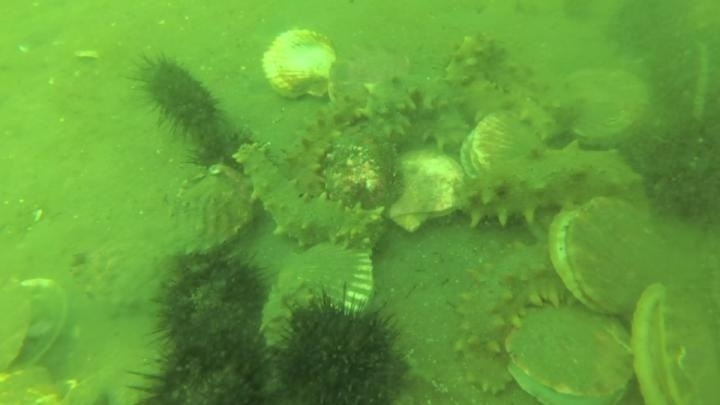echinus: (269, 290, 415, 405), (149, 244, 275, 365), (127, 336, 282, 404), (639, 111, 720, 236), (131, 52, 225, 141), (607, 1, 709, 56), (187, 121, 257, 177)
holothurian: (230, 138, 388, 253), (447, 140, 643, 232), (450, 247, 570, 395), (358, 67, 474, 151), (281, 92, 368, 197), (626, 282, 693, 405), (440, 46, 516, 128), (329, 46, 417, 110), (357, 69, 425, 144), (441, 30, 510, 93), (505, 92, 576, 148)
scallop: (543, 194, 700, 329), (502, 304, 636, 404), (257, 239, 378, 348), (623, 281, 718, 405), (164, 161, 259, 256), (555, 65, 652, 150), (386, 145, 468, 235), (1, 275, 73, 376), (457, 109, 544, 182), (259, 27, 341, 103), (1, 362, 70, 403)
